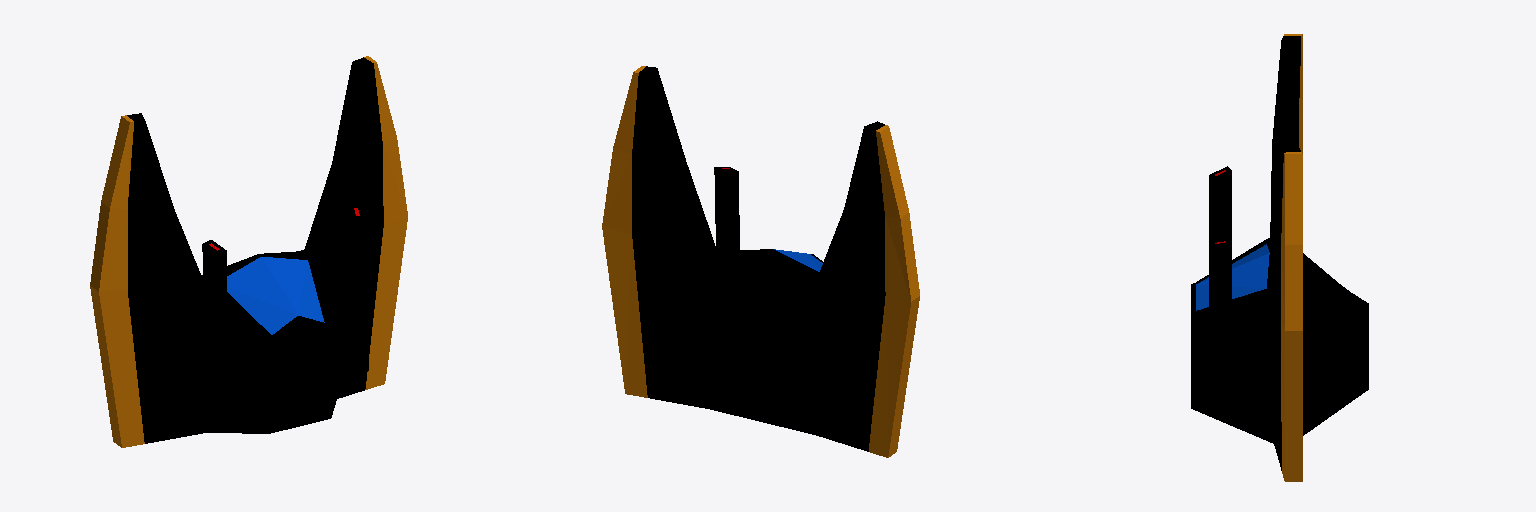
The model's file is space.obj.
3 renders of one model, left to right at view 1: azimuth 30°, elevation 25°; view 2: azimuth 150°, elevation 25°; view 3: azimuth 270°, elevation 25°, orthographic.
Parts seen in each view (by area): view 1: Cube_Cube.002; view 2: Cube_Cube.002; view 3: Cube_Cube.002.
Part boxes in pixels (x1,y1,x2,y2): Cube_Cube.002: (90, 56, 407, 447); Cube_Cube.002: (602, 66, 919, 457); Cube_Cube.002: (1191, 34, 1368, 481).
Bounding box in the file's own units: 4 × 4 × 2.